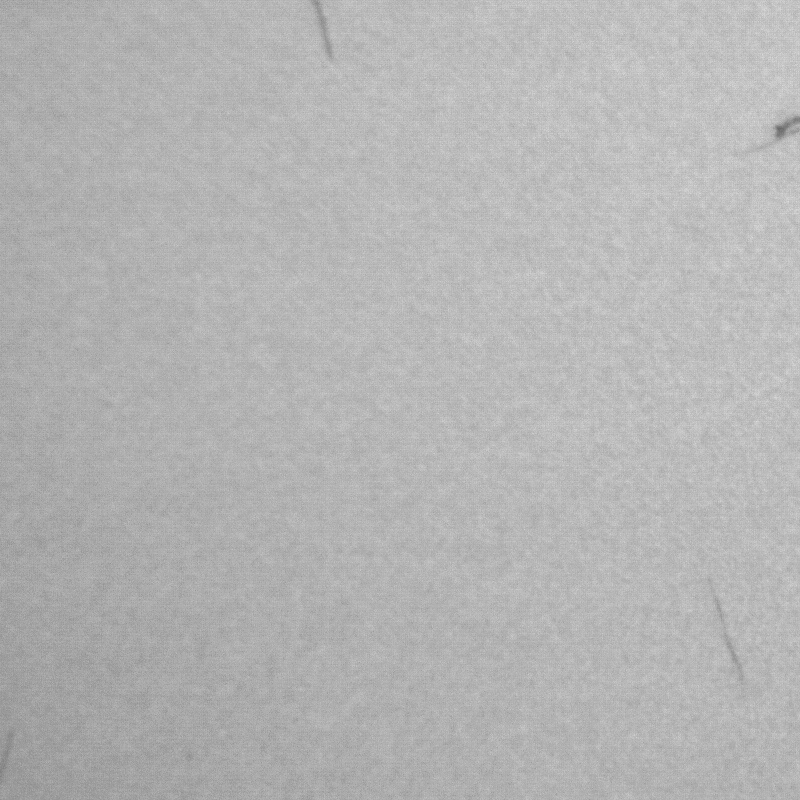defect: (711, 592, 753, 689), (312, 3, 337, 66), (769, 108, 796, 156)
